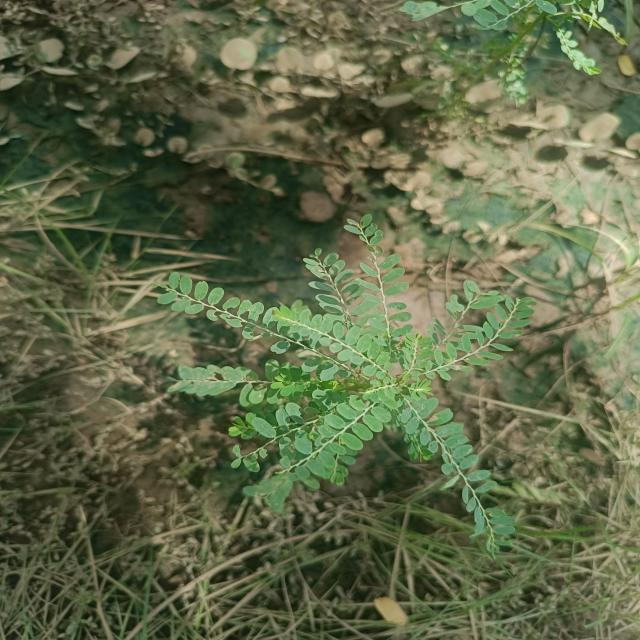weed: (133, 253, 535, 574), (377, 3, 640, 111), (301, 204, 429, 311)
